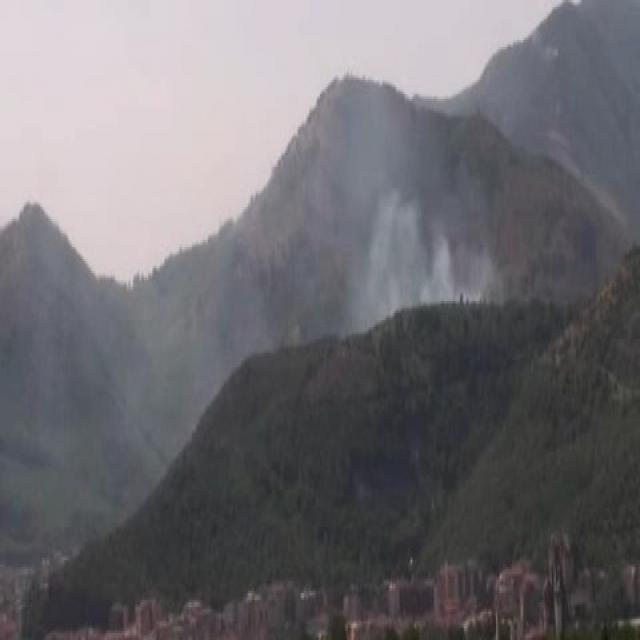smoke: (320, 133, 490, 315)
